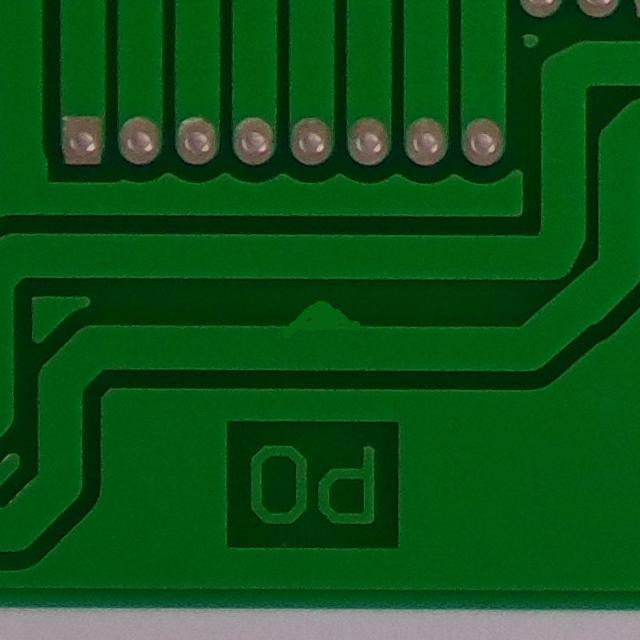spur: (267, 286, 374, 355)
